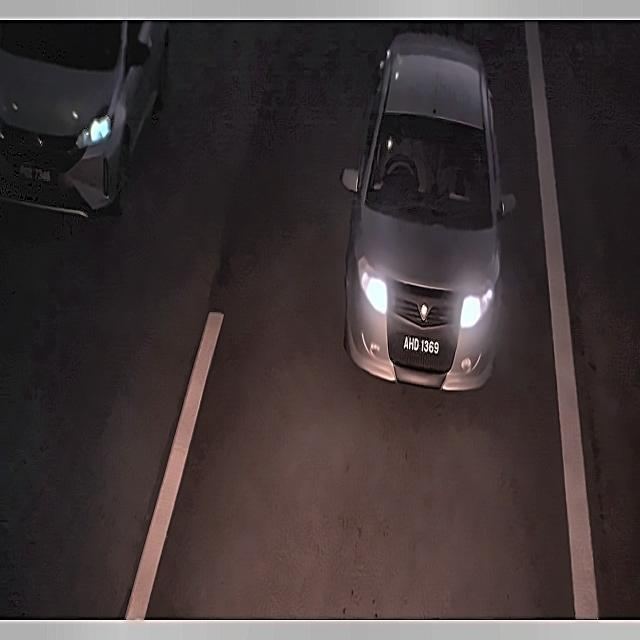car: (396, 328, 449, 366), (14, 158, 61, 193)
